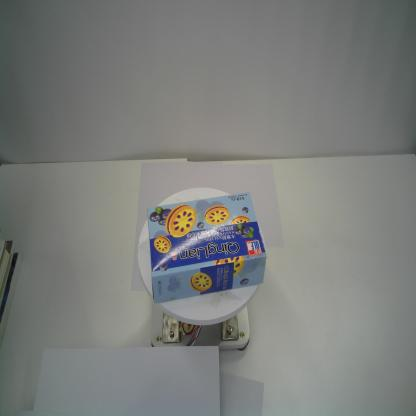Dessert: (146, 192, 268, 306)
